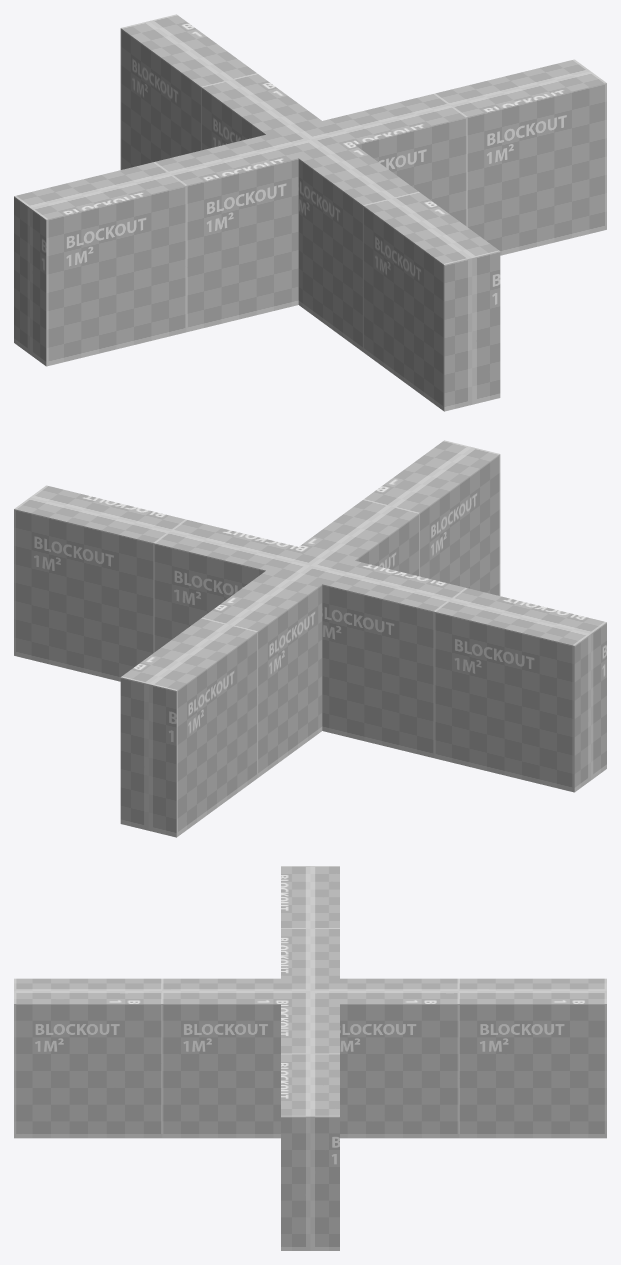
The model's file is BlockoutEdgeFullThinJunctionFourWay.fbx.
3 views of the same model, one above another, from view 1: azimuth 30°, elevation 25°; view 2: azimuth 150°, elevation 25°; view 3: azimuth 270°, elevation 25° (orthographic). The views are drawn at different scales.
Visible parts, largest first — view 1: BlockoutEdgeFullThinJunctionFourWay; view 2: BlockoutEdgeFullThinJunctionFourWay; view 3: BlockoutEdgeFullThinJunctionFourWay.
Part boxes in pixels (box(x1,y1,x2,y2)): BlockoutEdgeFullThinJunctionFourWay: box(14, 14, 606, 411); BlockoutEdgeFullThinJunctionFourWay: box(14, 440, 606, 837); BlockoutEdgeFullThinJunctionFourWay: box(14, 866, 606, 1250).
Size of the model in its own units: 400 by 100 by 400.
